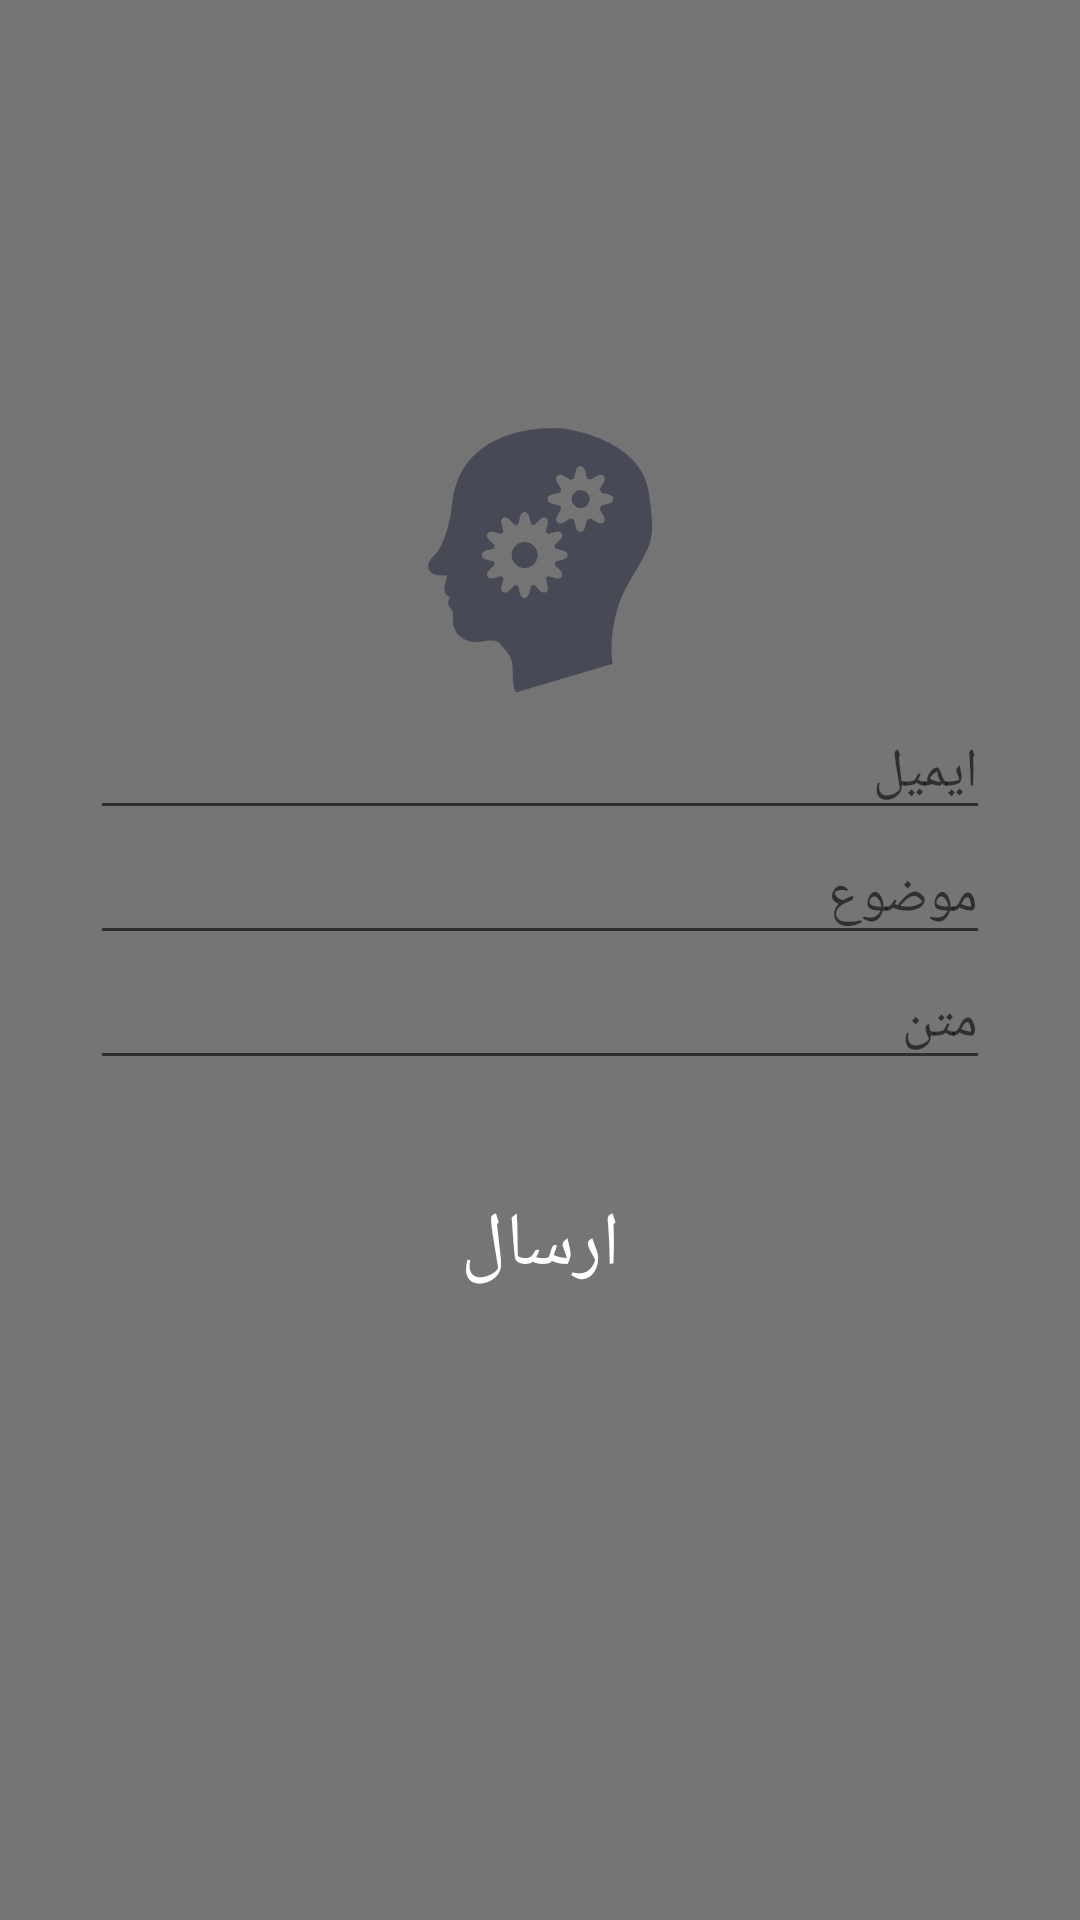

Named icons in this screenshot (1080*1920) and their bounding boxes, box=[x1, y1, x2, y2]:
knowledge: box=[428, 428, 652, 692]
